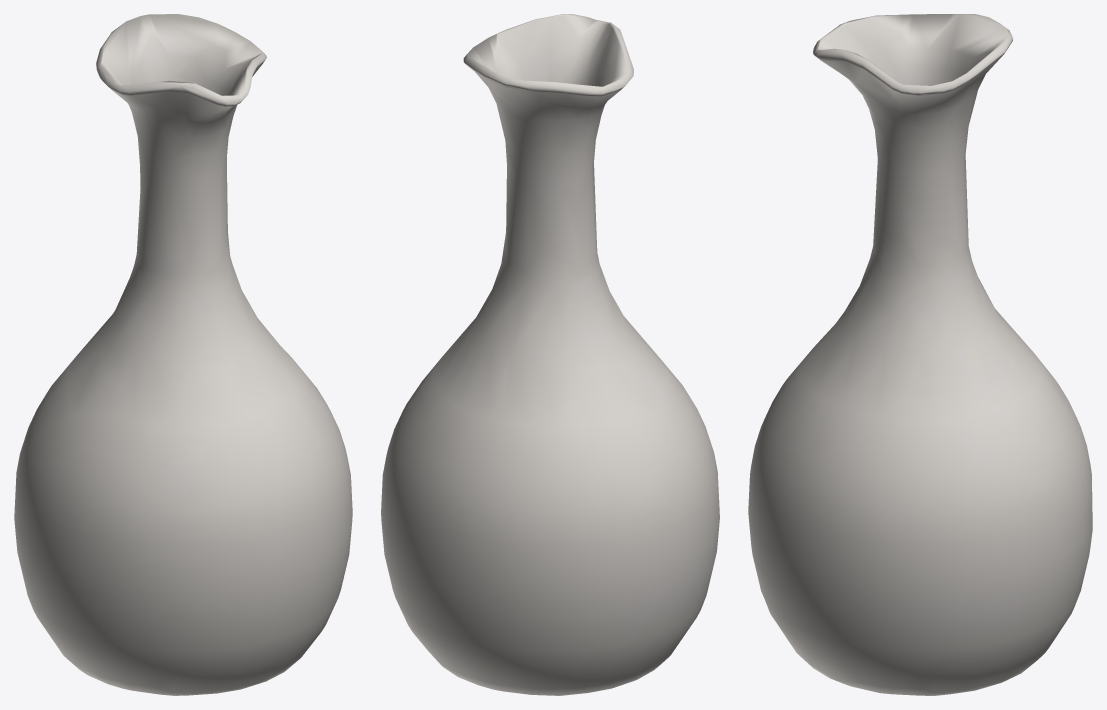
The model's file is ceramic_vase_01.glb.
3 renders of one model, left to right at view 1: azimuth 30°, elevation 25°; view 2: azimuth 150°, elevation 25°; view 3: azimuth 270°, elevation 25°, orthographic.
Visible parts, largest first — view 1: ceramic_vase_01; view 2: ceramic_vase_01; view 3: ceramic_vase_01.
Boxes of the visible parts, x1=… form: ceramic_vase_01: x1=14, y1=14, x2=352, y2=695; ceramic_vase_01: x1=381, y1=14, x2=719, y2=695; ceramic_vase_01: x1=748, y1=14, x2=1092, y2=695.
Size of the model in its own units: 0.2036 by 0.4002 by 0.2031.
1 material, 1 textured.
